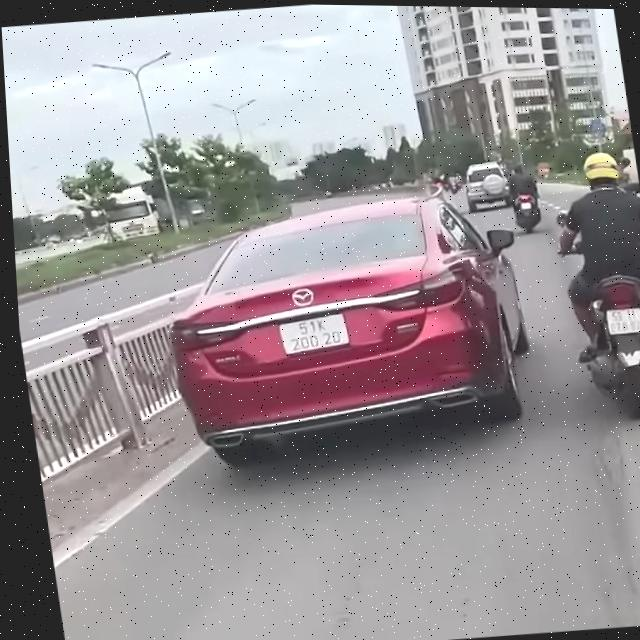car: (147, 184, 549, 476), (456, 155, 512, 214)
motorcycle: (572, 264, 640, 423), (506, 189, 542, 230)
plate: (273, 304, 353, 360), (599, 300, 640, 340)
